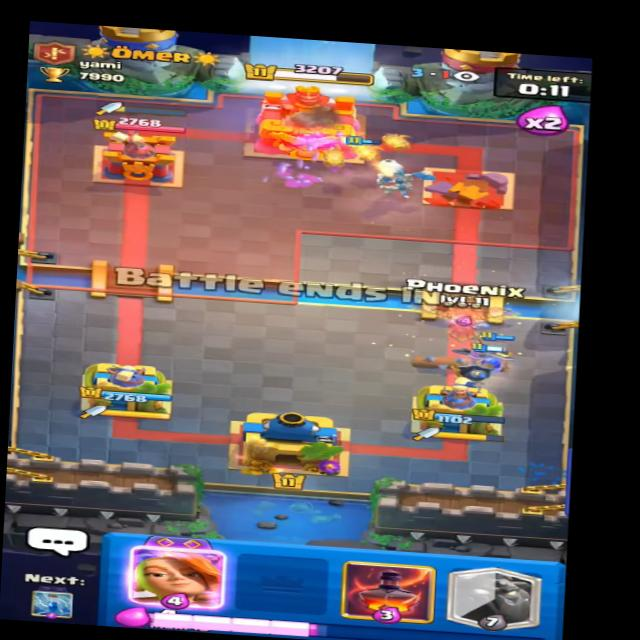Log: (406, 349, 523, 378)
